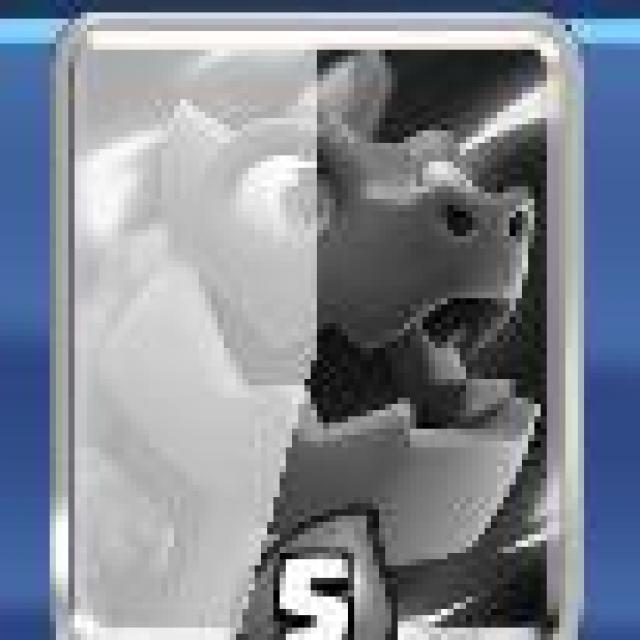Electro_Dragon: (47, 9, 587, 640)
